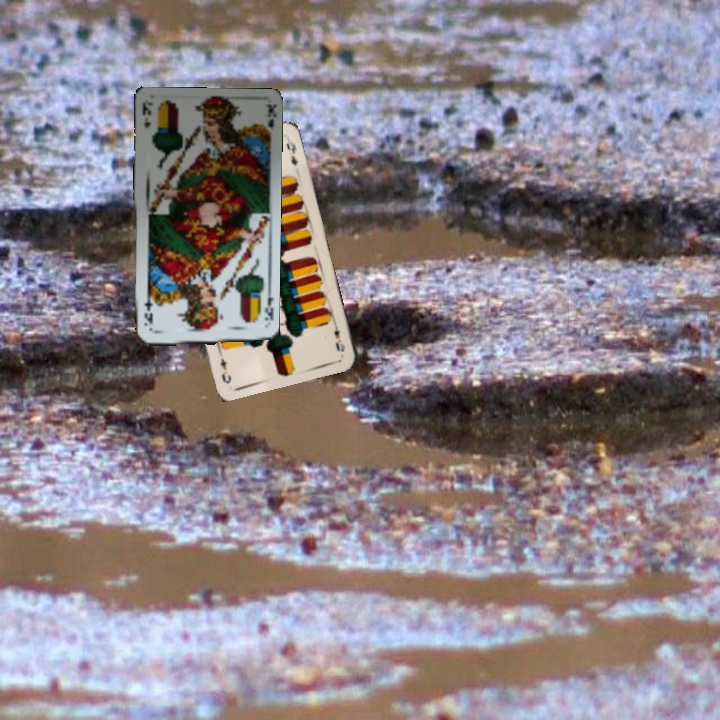E9: (329, 317, 348, 354)
EK: (260, 292, 275, 330), (138, 102, 154, 130)
